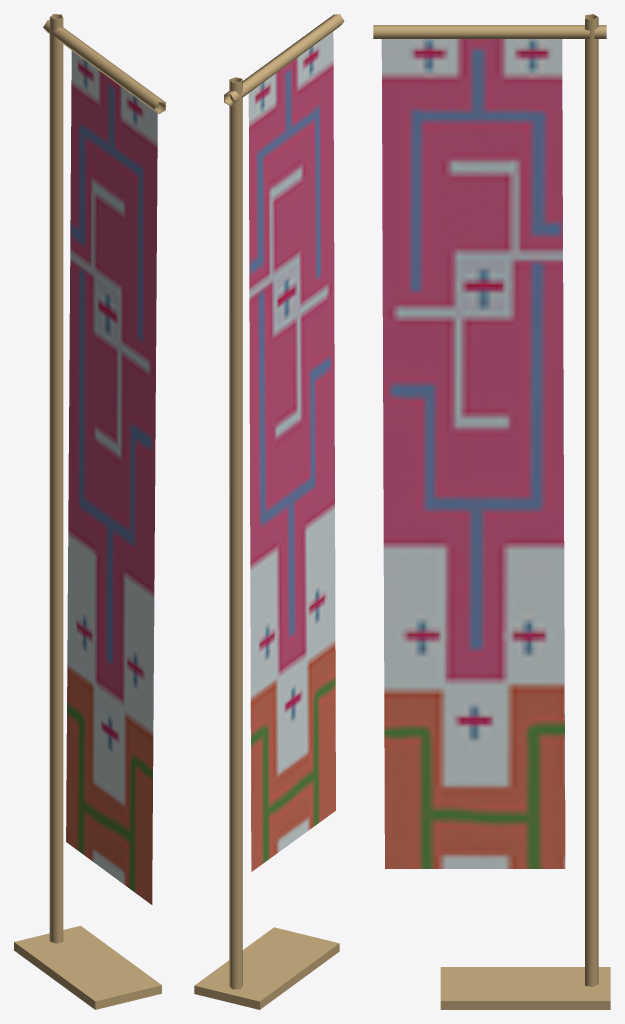
The model's file is Flag02.fbx.
The picture shows the model from 3 angles, left to right: view 1: azimuth 30°, elevation 25°; view 2: azimuth 150°, elevation 25°; view 3: azimuth 270°, elevation 25°; orthographic projection. The views are drawn at different scales.
Parts seen in each view (by area): view 1: Flag02; view 2: Flag02; view 3: Flag02.
Part boxes in pixels (box(x1,y1,x2,y2)): Flag02: box(14, 14, 165, 1009); Flag02: box(194, 14, 344, 1009); Flag02: box(373, 14, 610, 1009).
Bounding box in the file's own units: 1.34 × 17.87 × 3.94.
Materials: 2 (1 with a texture image).
